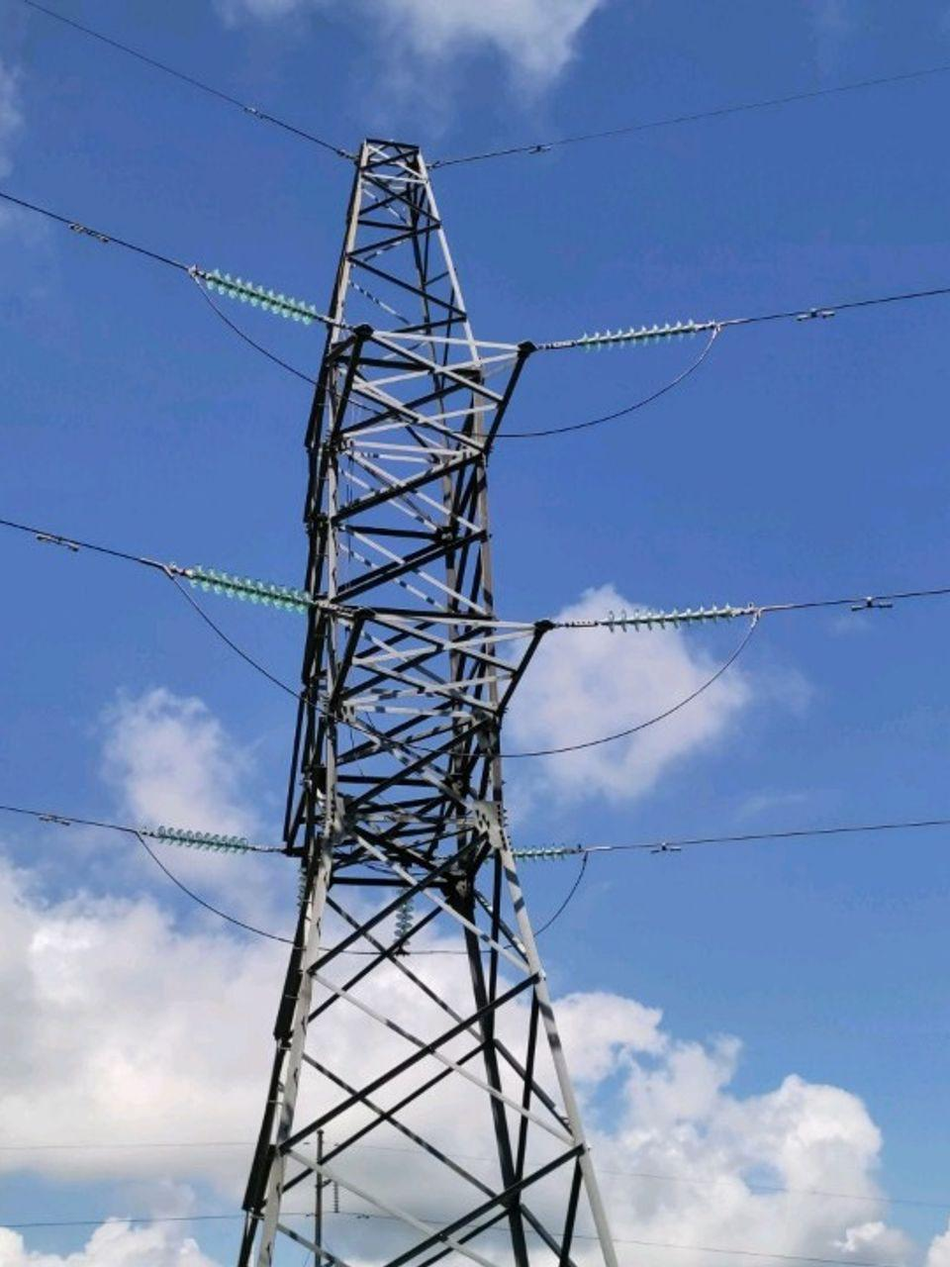tower: (226, 109, 637, 1267)
